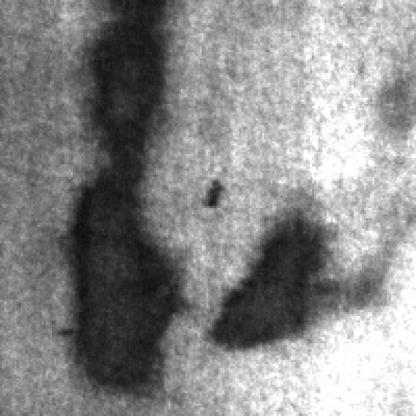patches: (67, 147, 183, 392), (212, 210, 364, 348), (88, 0, 181, 164)
